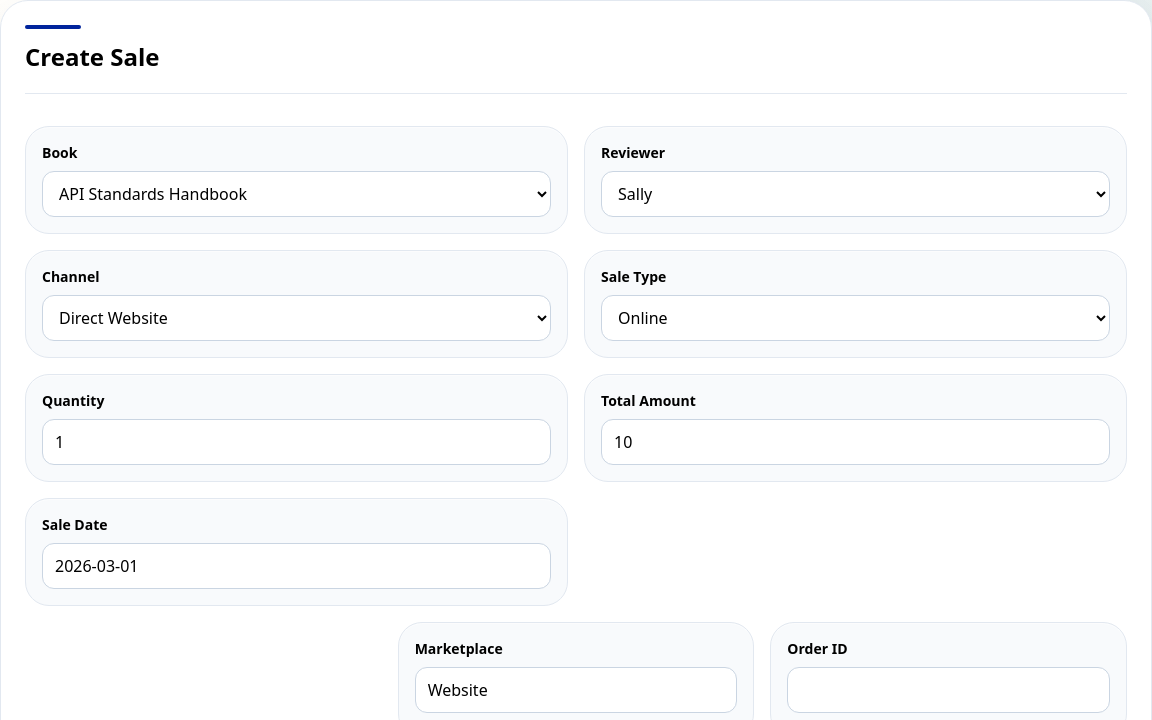
Test case: SalesForm › shows and hides store location based on sale type
Expected: the field labelled "Store Location" is not shown
Select "In Store" in the dropdown labelled "Sale Type" at [856, 318], box [601,295,1110,341]
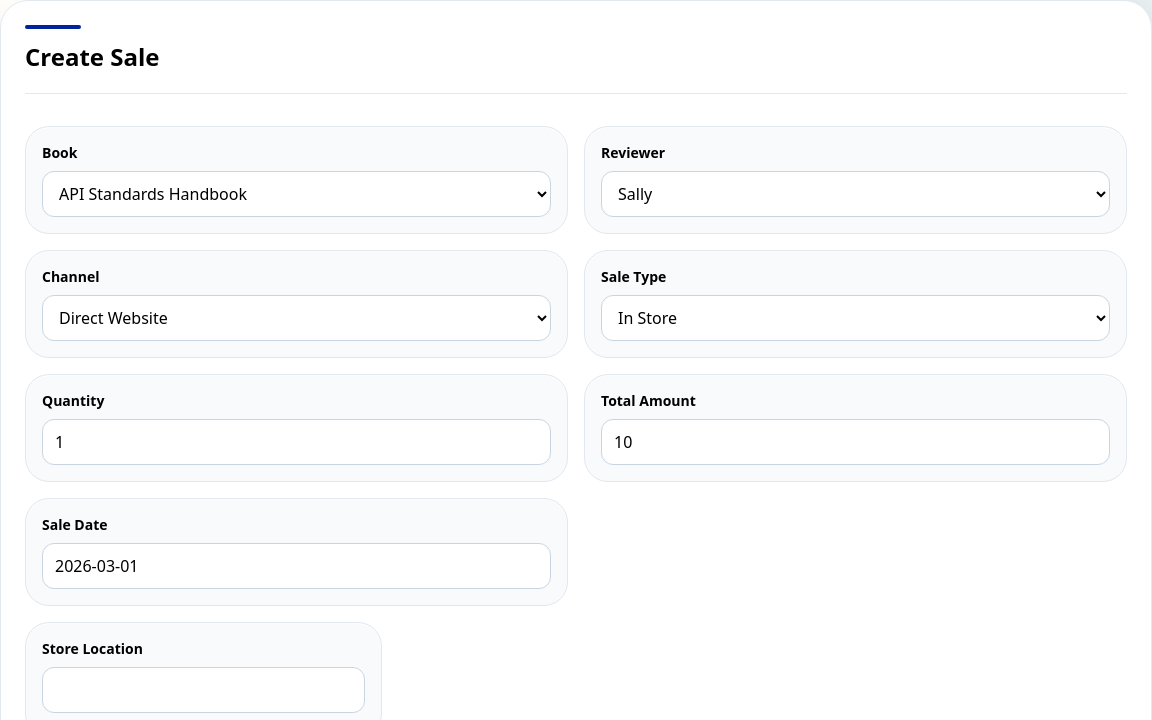
Expected: the field labelled "Store Location" is shown, [42,667,365,713]
Select "Online" in the dropdown labelled "Sale Type" at [856, 318], box [601,295,1110,341]
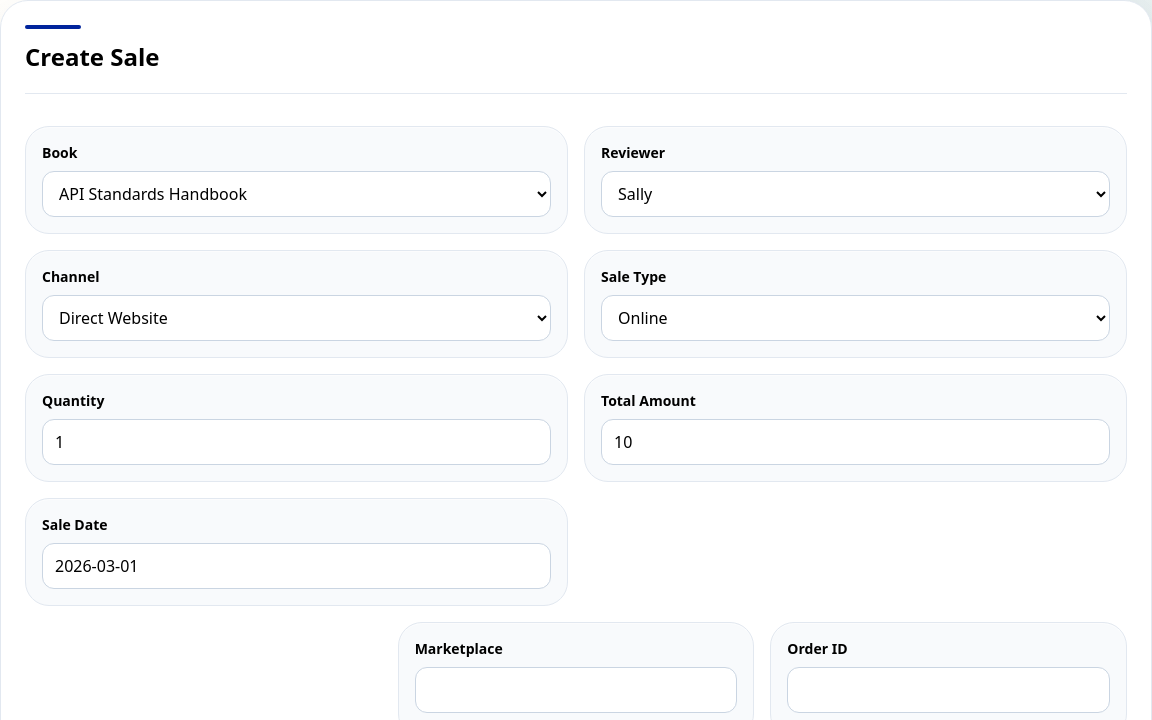
Expected: the text labelled "Store Location" is gone
